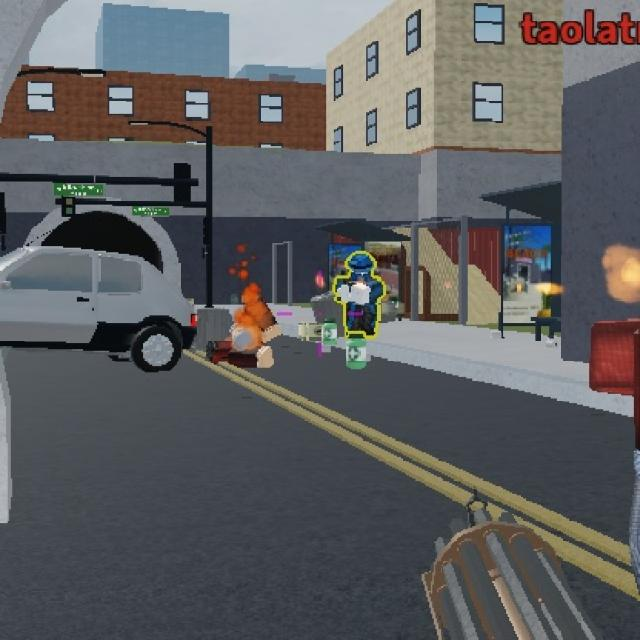player: (340, 243, 384, 333)
